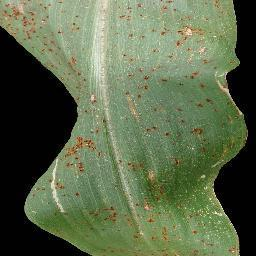Corn_Common_Rust: (116, 0, 240, 117), (0, 2, 113, 127), (25, 126, 120, 226), (122, 189, 244, 256), (122, 157, 177, 189), (188, 119, 209, 157), (141, 124, 176, 141), (210, 139, 239, 158), (195, 167, 213, 185)
